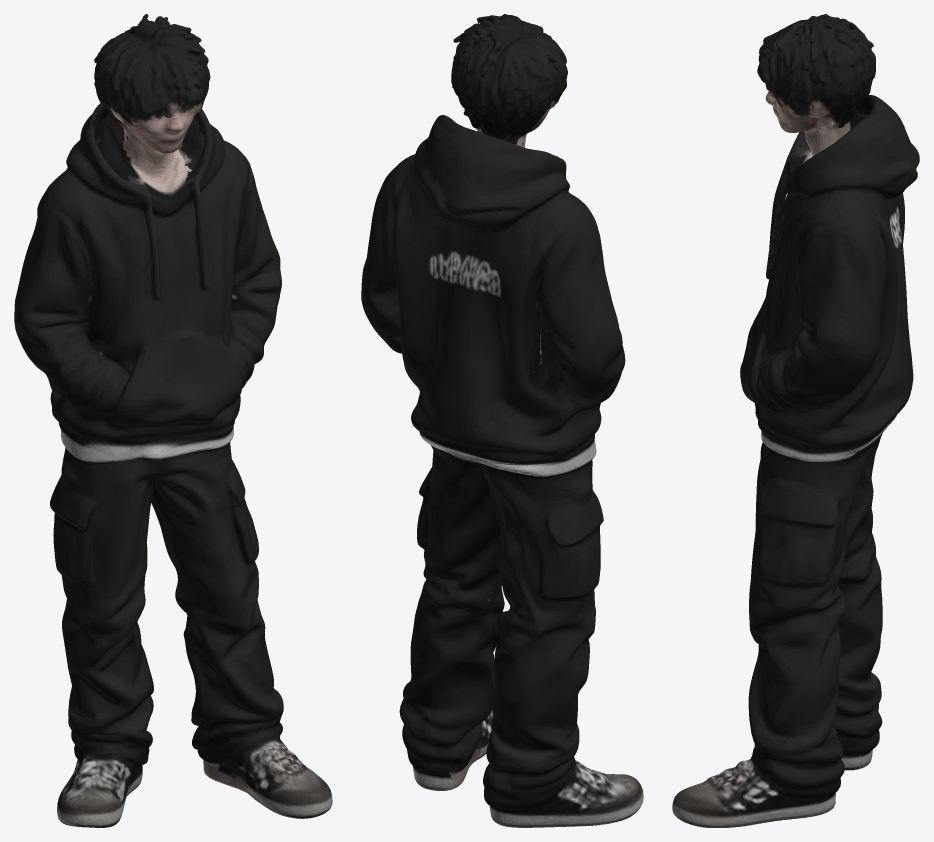
The model's file is fred.glb.
3 renders of one model, left to right at view 1: azimuth 30°, elevation 25°; view 2: azimuth 150°, elevation 25°; view 3: azimuth 270°, elevation 25°, orthographic. The views are drawn at different scales.
Parts seen in each view (by area): view 1: world; view 2: world; view 3: world.
Boxes of the visible parts, bbox=[...] form: world: bbox=[14, 14, 332, 827]; world: bbox=[361, 14, 643, 827]; world: bbox=[672, 14, 919, 827].
Size of the model in its own units: 0.6832 by 1.99 by 0.5906.
1 material, 1 textured.
